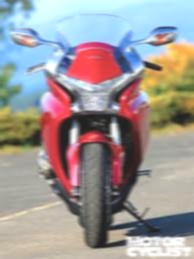Vehicle: (8, 16, 179, 249)
